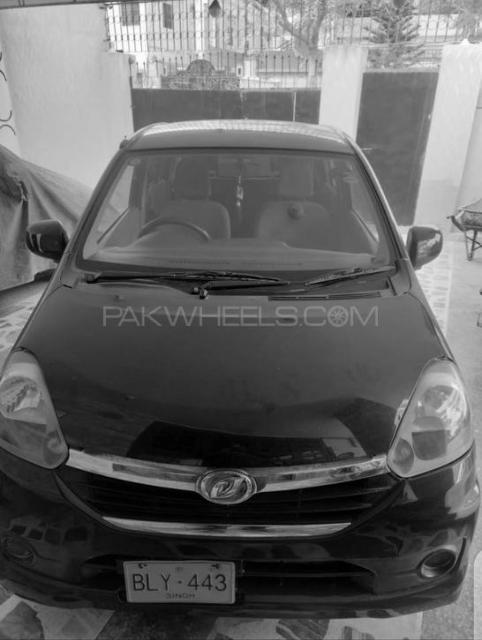Number: (131, 569, 230, 595)
